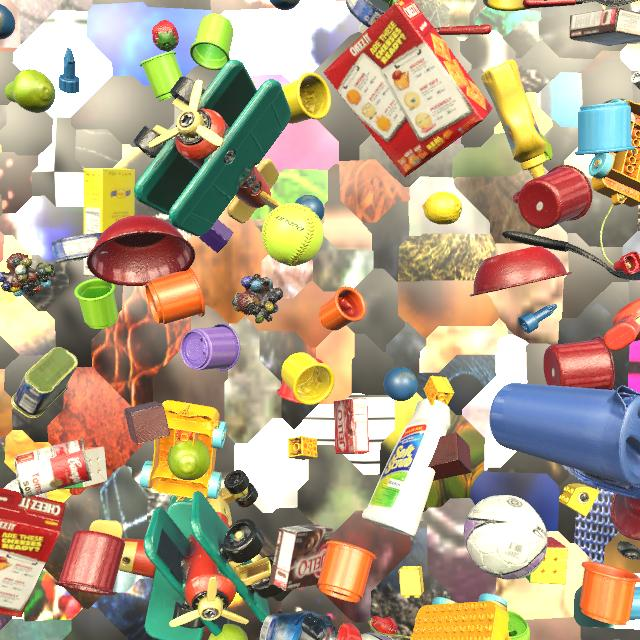ycb_003_cracker_box: (324, 0, 493, 177), (0, 488, 66, 618)
ycb_004_sugar_box: (83, 168, 135, 277)
ycb_005_tomato_soup_can: (14, 438, 92, 498), (594, 99, 635, 157)
ycb_006_mustard_bottle: (481, 60, 547, 179)
ycb_007_tuna_fish_can: (51, 233, 108, 263), (346, 0, 395, 28)
ycb_008_pudding_box: (268, 524, 333, 591), (569, 7, 640, 46)
ycb_009_gelatin_box: (334, 398, 369, 454)
ycb_010_potted_meat_can: (11, 347, 78, 419)
ycb_012_strawberry: (152, 20, 179, 52)
ycb_014_lemon: (422, 192, 462, 225)
ycb_016_pear: (5, 69, 55, 113), (168, 440, 210, 480), (208, 624, 248, 640)
